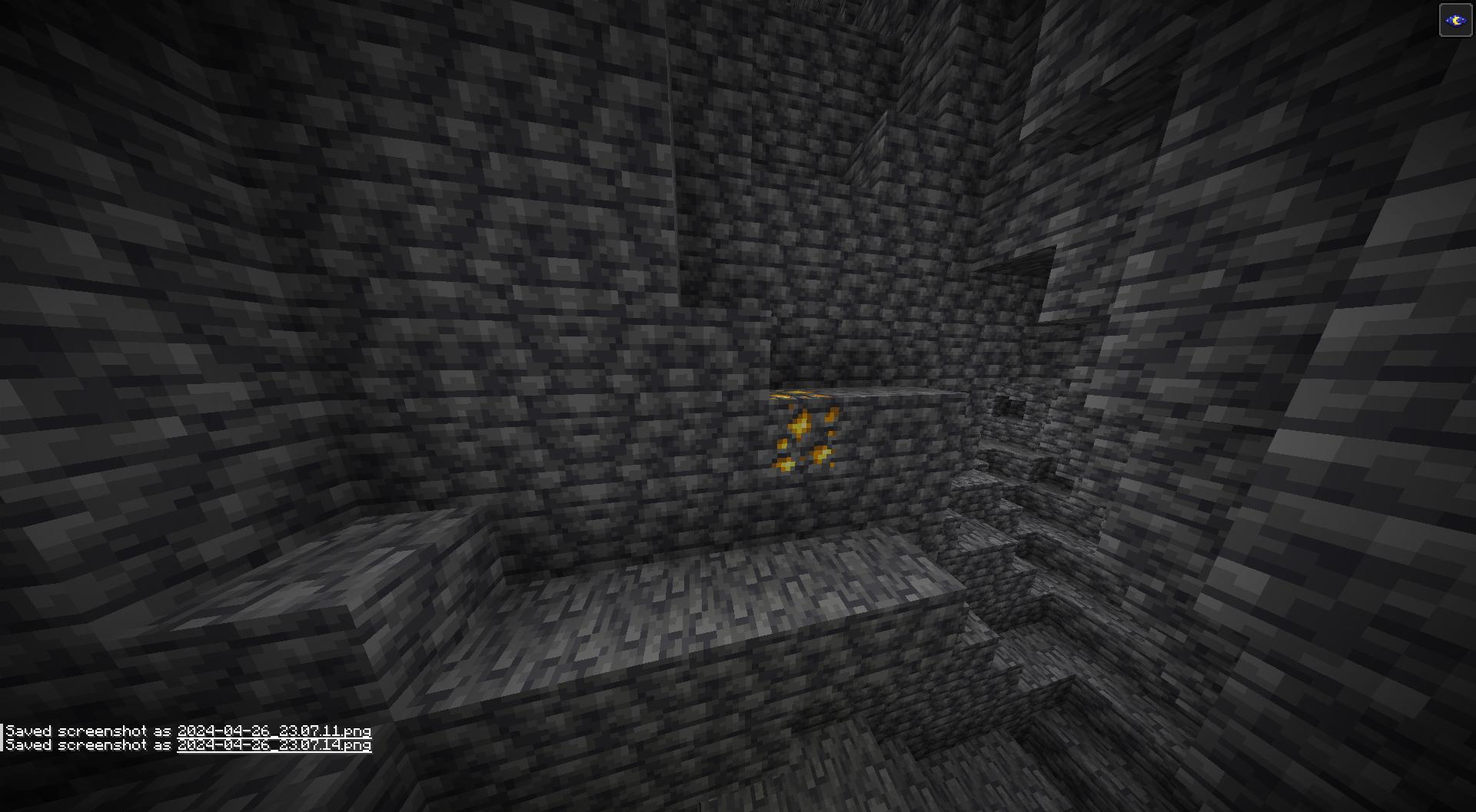gold ore: (776, 399, 841, 465)
